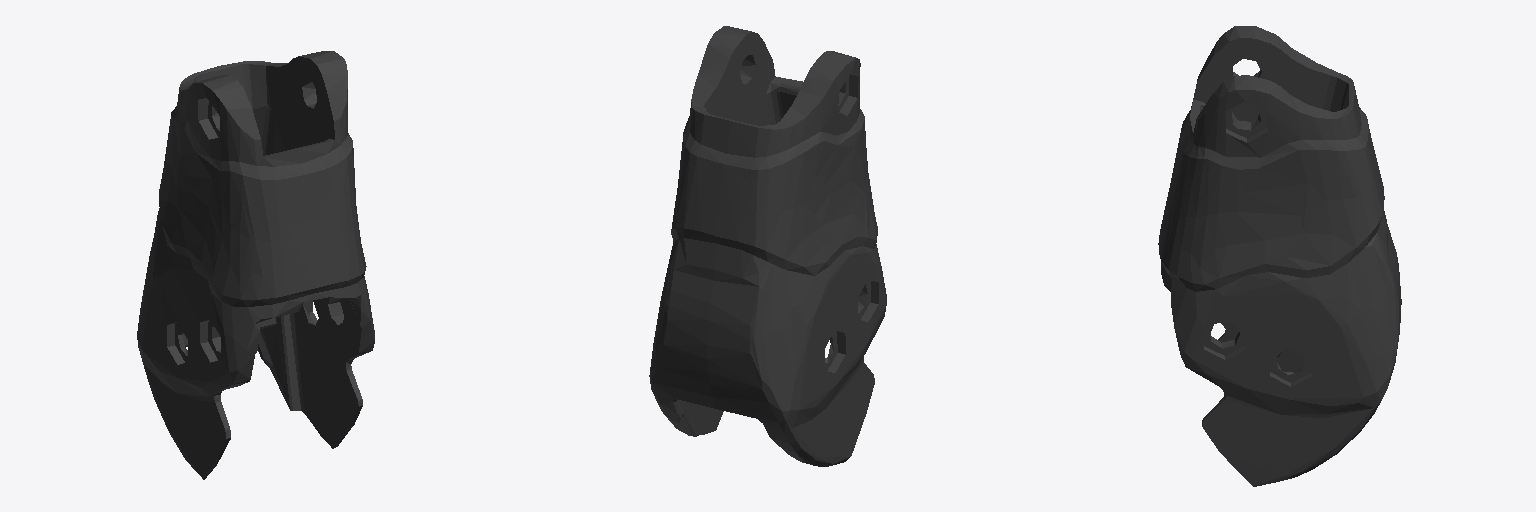
File: R_thumb_intermediate.obj
3 views of the same model, side by side, from view 1: azimuth 30°, elevation 25°; view 2: azimuth 150°, elevation 25°; view 3: azimuth 270°, elevation 25° (orthographic).
Size of the model in its own units: 0.0162 by 0.0424 by 0.0234.